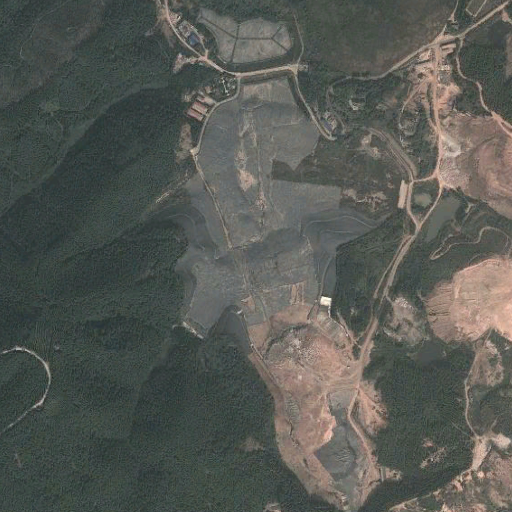lf: (162, 74, 395, 505)
